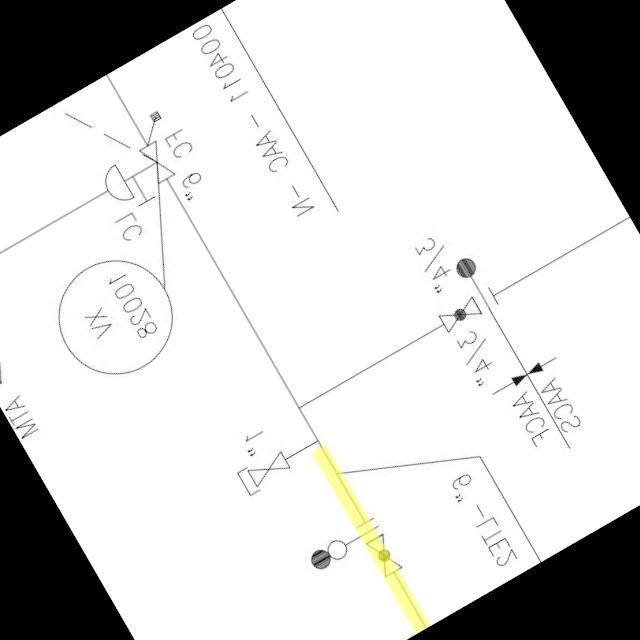BV2: (432, 291, 488, 338), (361, 528, 406, 582)
EC: (231, 431, 315, 500)
FC: (89, 129, 183, 213)
GV: (242, 446, 296, 490)
